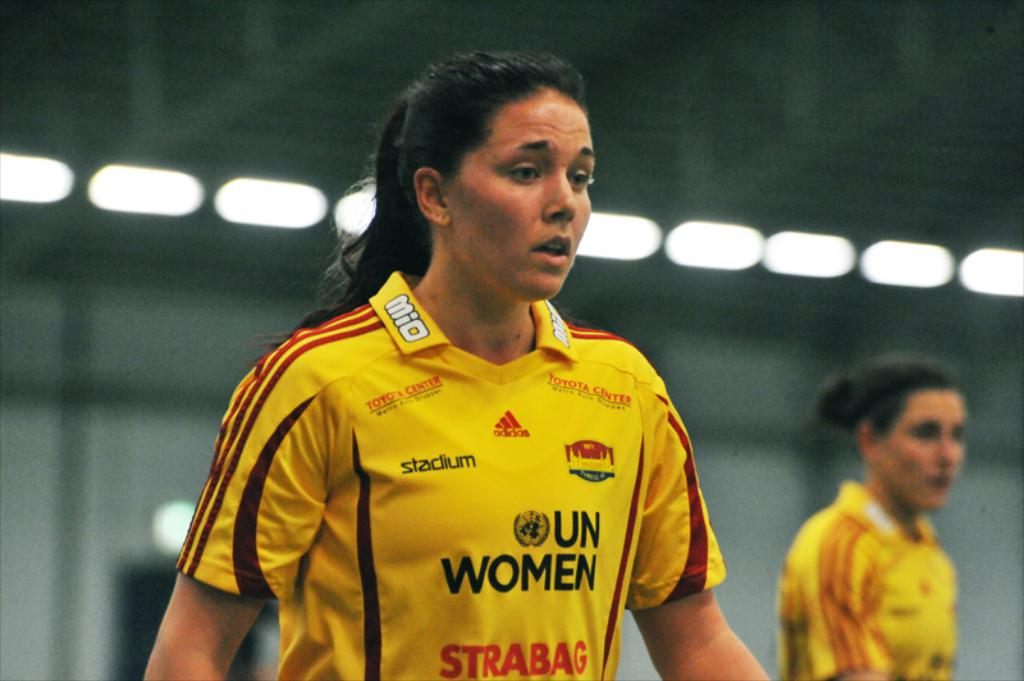Human-face: (444, 96, 594, 301), (878, 389, 966, 512)
